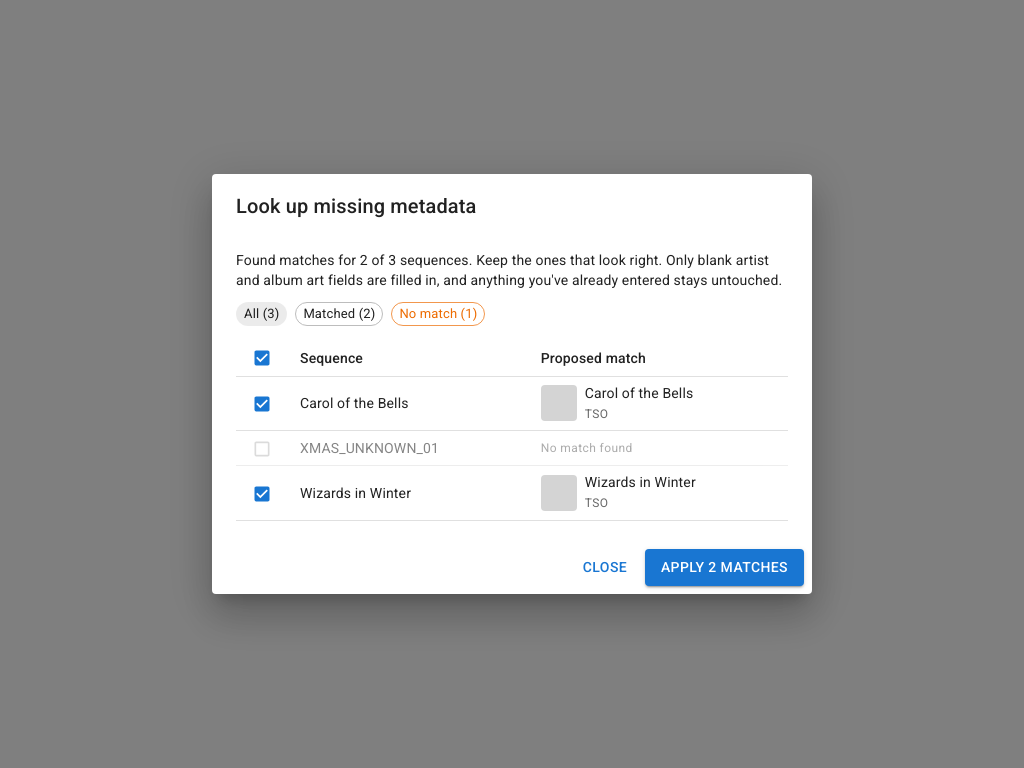
BulkMetadataLookupDialog › disables Apply when everything is unchecked
Check: the button "Apply 2 matches" is shown, box [645,549,804,586]
Click the checkbox named "Select all matches" at (262, 358), box [252,348,272,368]
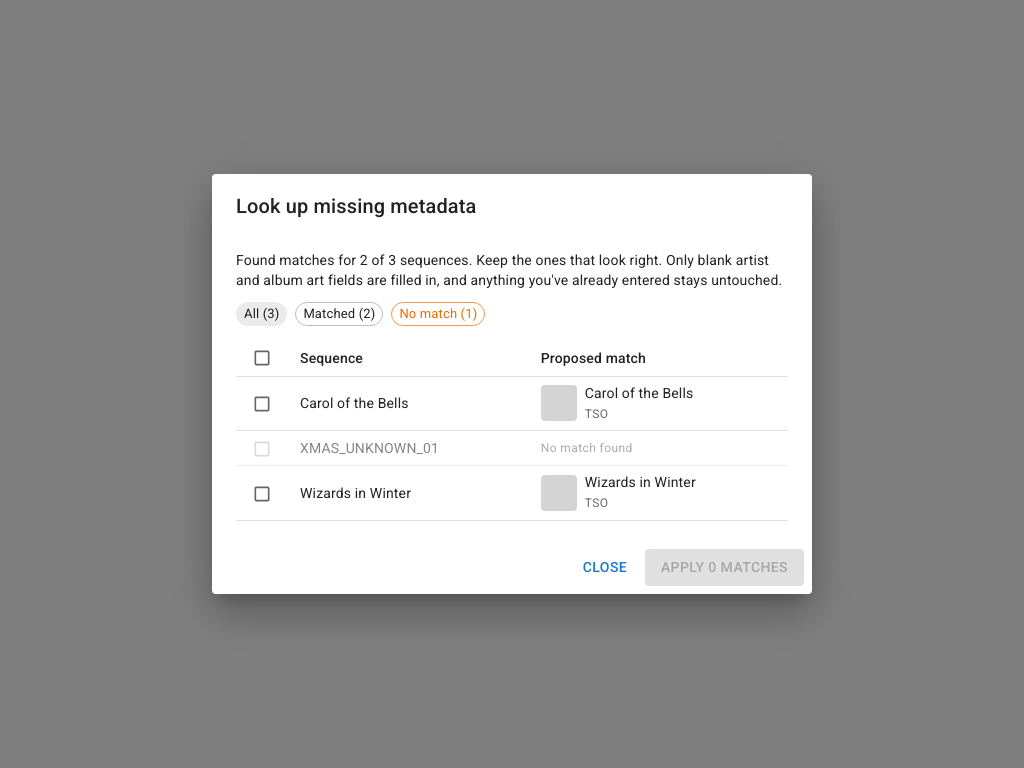
Check: the button "Apply 0 matches" is disabled, box [645,549,804,586]
